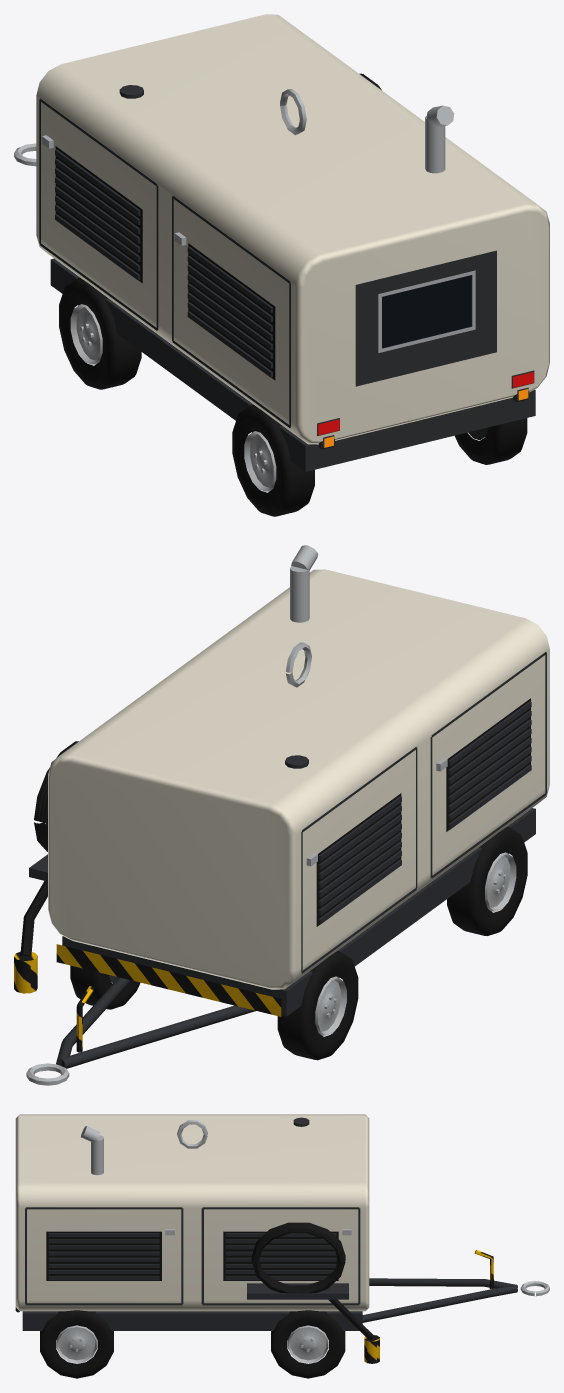
The model's file is gpu_cart.glb.
3 views of the same model, one above another, from view 1: azimuth 30°, elevation 25°; view 2: azimuth 150°, elevation 25°; view 3: azimuth 270°, elevation 25° (orthographic). The views are drawn at different scales.
Visible parts, largest first — view 1: Body, Wheels; view 2: Body, Wheels; view 3: Body, Wheels.
Part boxes in pixels (left/top/right/bottom): Body: left=14, top=14, right=549, bottom=471; Wheels: left=59, top=277, right=527, bottom=516; Body: left=14, top=545, right=549, bottom=1085; Wheels: left=70, top=826, right=527, bottom=1060; Body: left=15, top=1114, right=549, bottom=1363; Wheels: left=40, top=1310, right=345, bottom=1378.
Size of what is drawn, in the model's own units: 1.65 by 1.92 by 3.94.
7 materials, 2 textured.
